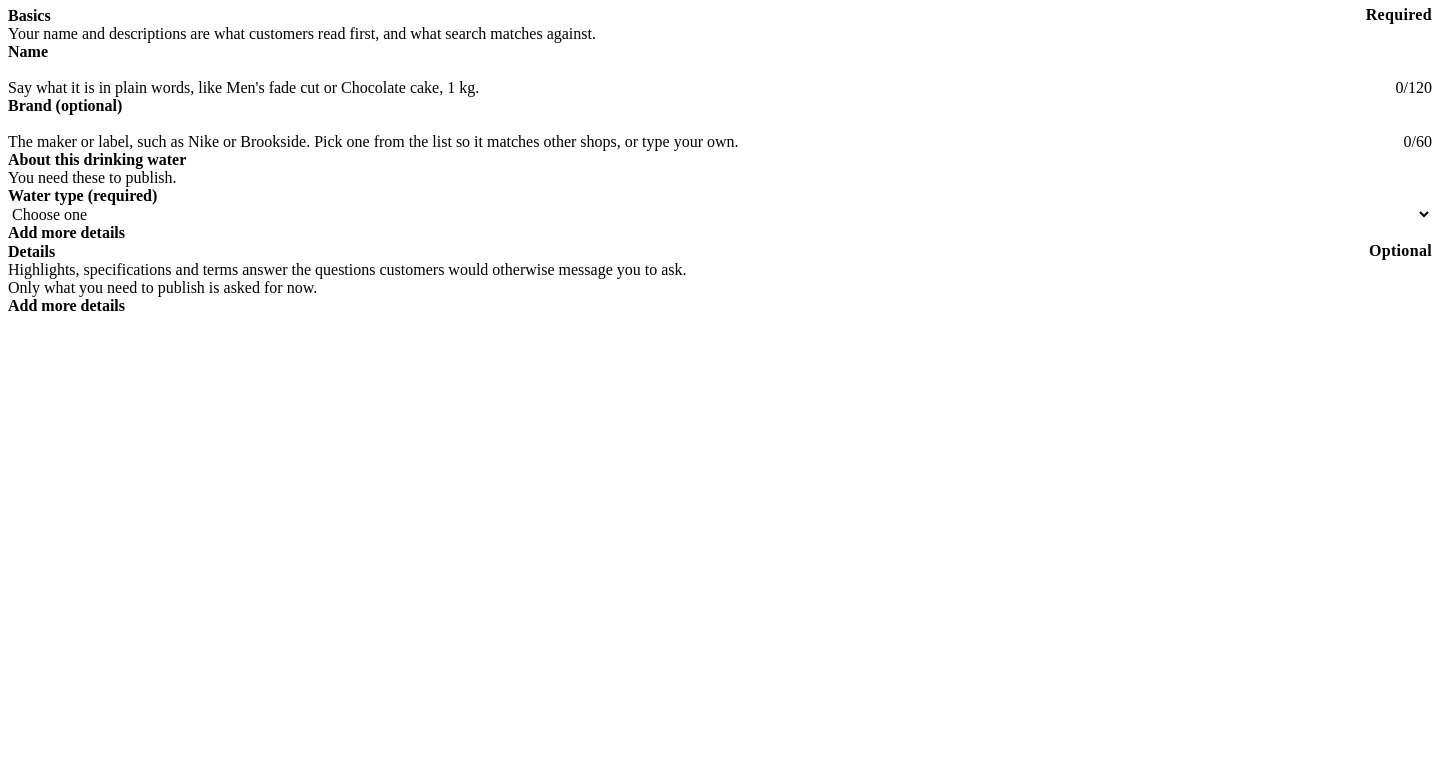
typed Details › quick mode shows only the invitation; full mode shows recommended rows and the usual blocks
expect the field labelled "Treatment method" is not shown: met
Click the button "Add more details" below "Water type (required)". click: (66,233)
box: [8,224,125,242]
(page scrolled)
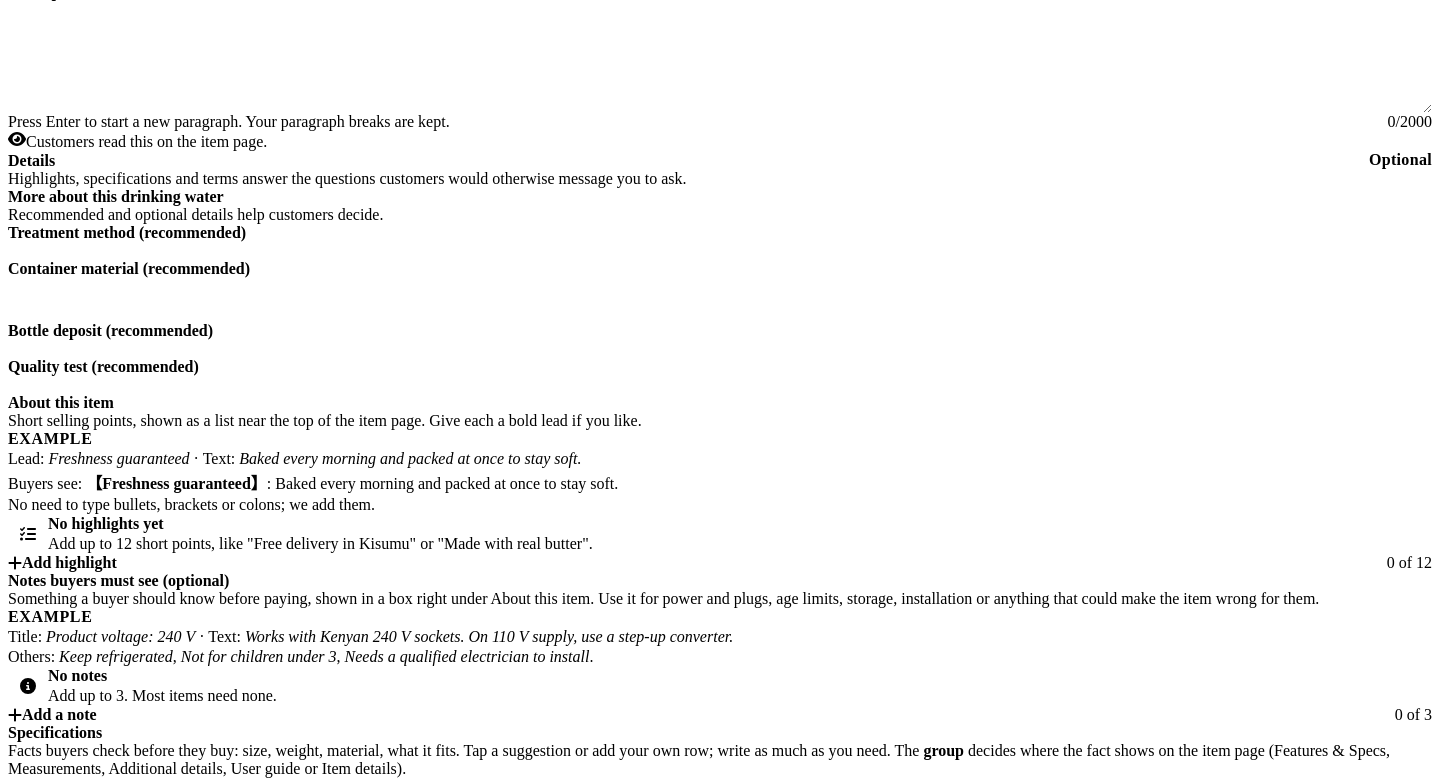
expect the field labelled "Treatment method (recommended)" is shown: met, box [8,242,1432,260]
expect the heading "Specifications" is shown: met, box [8,724,102,741]
expect the heading "About this item" is shown: met, box [8,394,114,411]
